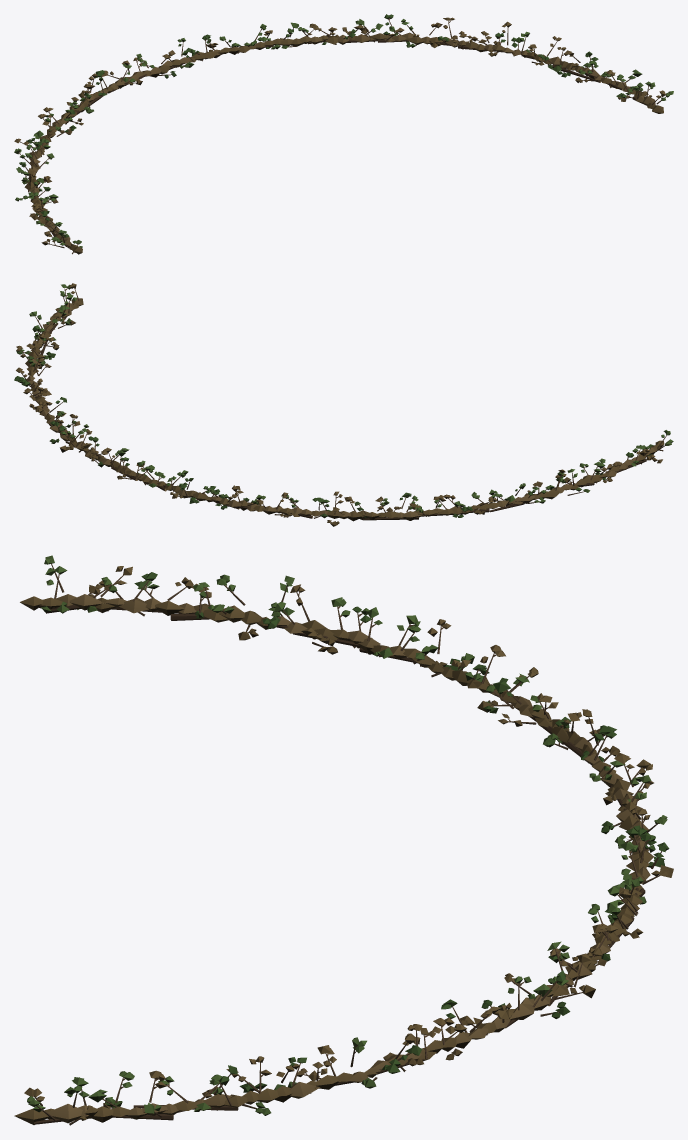
File: brush_fence.glb
The picture shows the model from 3 angles, top to bottom: view 1: azimuth 30°, elevation 25°; view 2: azimuth 150°, elevation 25°; view 3: azimuth 270°, elevation 25°; orthographic projection. The views are drawn at different scales.
Visible parts, largest first — view 1: brush_fence_4, brush_fence_3, brush_fence_2, brush_fence_1; view 2: brush_fence_2, brush_fence_1, brush_fence_3, brush_fence_4; view 3: brush_fence_4, brush_fence_1, brush_fence_3, brush_fence_2.
Boxes of the visible parts, x1,y1,x2,y2 form: brush_fence_4: (450, 21, 673, 113); brush_fence_3: (192, 14, 457, 61); brush_fence_2: (26, 38, 205, 145); brush_fence_1: (14, 126, 82, 254); brush_fence_2: (192, 485, 464, 526); brush_fence_1: (444, 430, 673, 514); brush_fence_3: (29, 395, 207, 503); brush_fence_4: (14, 283, 83, 411); brush_fence_4: (14, 1017, 471, 1125); brush_fence_1: (20, 555, 474, 680); brush_fence_3: (441, 833, 673, 1039); brush_fence_2: (452, 645, 667, 862).
Size of the model in its own units: 233 by 10.69 by 120.
